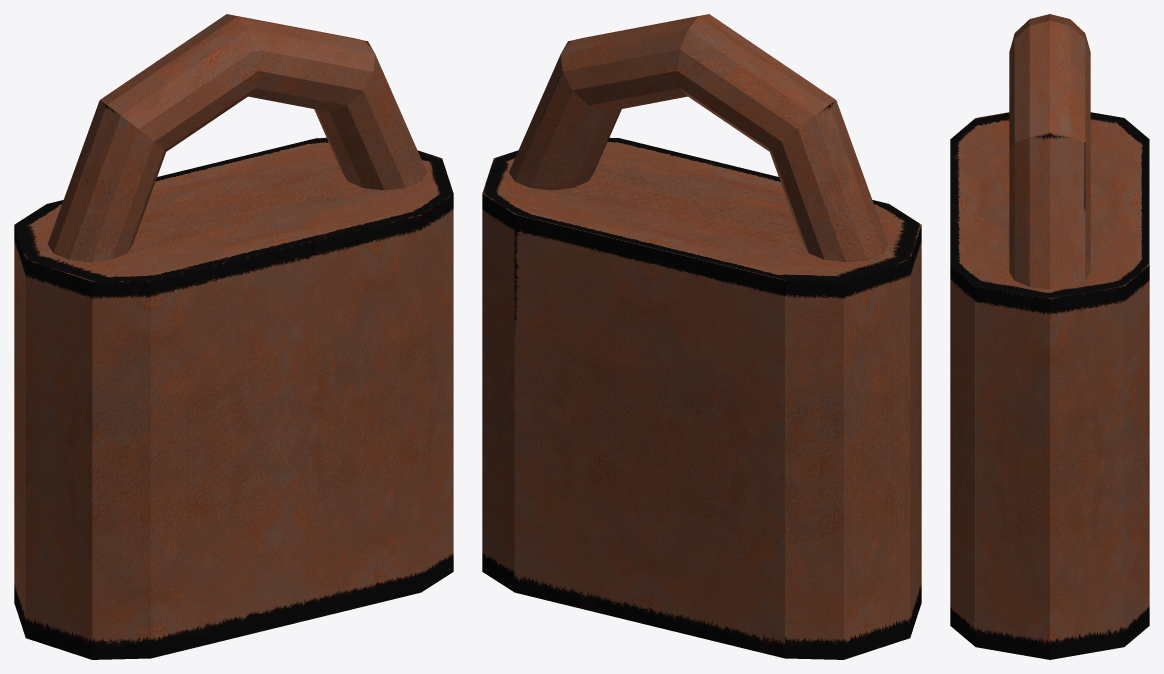
The model's file is Aloquete.fbx.
3 views of the same model, side by side, from view 1: azimuth 30°, elevation 25°; view 2: azimuth 150°, elevation 25°; view 3: azimuth 270°, elevation 25° (orthographic). The views are drawn at different scales.
Visible parts, largest first — view 1: AloqueteChave; view 2: AloqueteChave; view 3: AloqueteChave.
Boxes of the visible parts, left/top/right/bottom form: AloqueteChave: left=14, top=14, right=453, bottom=659; AloqueteChave: left=482, top=14, right=921, bottom=659; AloqueteChave: left=950, top=14, right=1149, bottom=659.
Size of the model in its own units: 23.05 by 30.14 by 10.
Materials: 1 (1 with a texture image).
